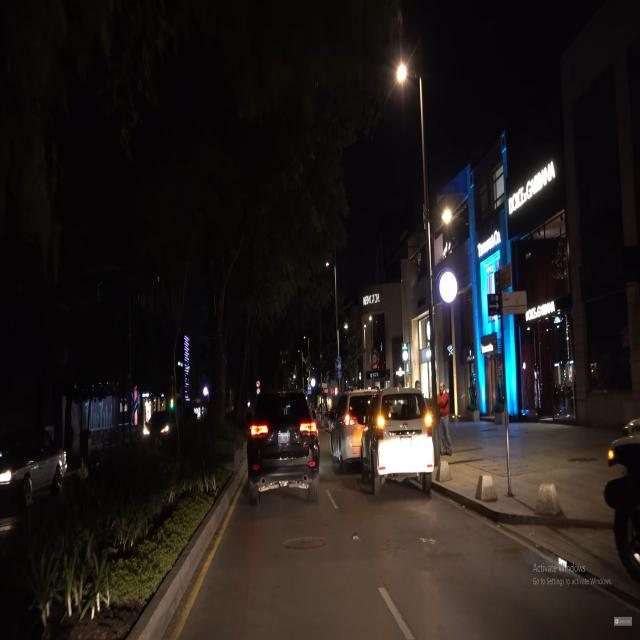headlights: (139, 416, 174, 440)
